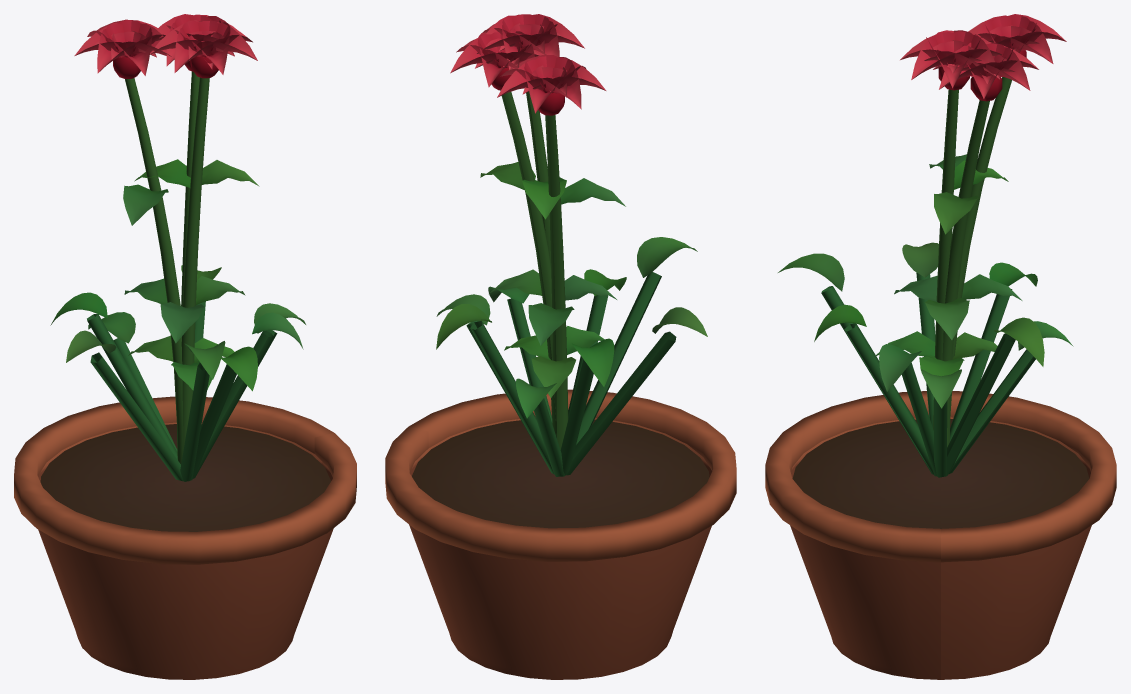
Rendered from rosa.glb.
3 renders of one model, left to right at view 1: azimuth 30°, elevation 25°; view 2: azimuth 150°, elevation 25°; view 3: azimuth 270°, elevation 25°, orthographic. The views are drawn at different scales.
Parts seen in each view (by area): view 1: rosa; view 2: rosa; view 3: rosa.
Part boxes in pixels (<box>): rosa: <box>14,14,356,679</box>; rosa: <box>385,14,736,679</box>; rosa: <box>765,14,1116,679</box>.
Bounding box in the file's own units: 0.1696 × 0.323 × 0.1696.
